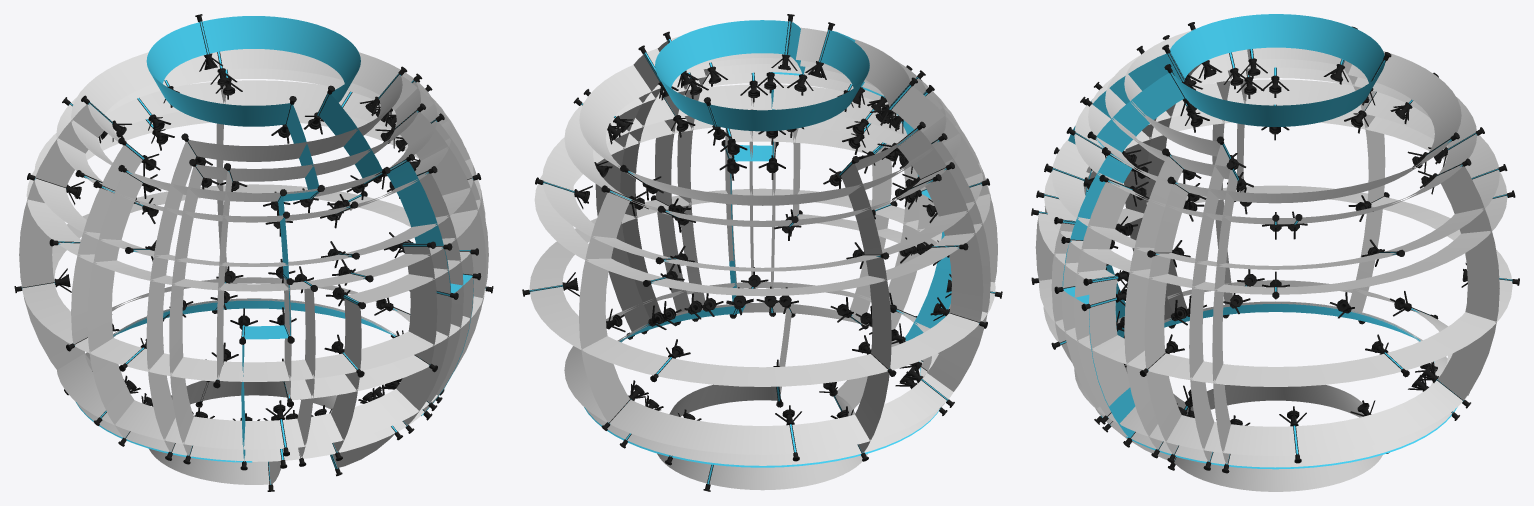
Rendered from Sc01_walls.FBX.
The picture shows the model from 3 angles, left to right: view 1: azimuth 30°, elevation 25°; view 2: azimuth 150°, elevation 25°; view 3: azimuth 270°, elevation 25°; orthographic projection.
Parts seen in each view (by area): view 1: Sc01_walls05, Sc01_walls09, Sc01_walls06, Sc01_walls08, Sc01_walls01, Sc01_walls04, Sc01_walls07, Sc01_walls03, Sc01_walls02; view 2: Sc01_walls05, Sc01_walls04, Sc01_walls08, Sc01_walls01, Sc01_walls06, Sc01_walls09, Sc01_walls07, Sc01_walls03, Sc01_walls02; view 3: Sc01_walls05, Sc01_walls04, Sc01_walls06, Sc01_walls01, Sc01_walls09, Sc01_walls08, Sc01_walls07, Sc01_walls03, Sc01_walls02.
Part boxes in pixels (x1,y1,x2,y2): Sc01_walls05: (19,80,485,381); Sc01_walls09: (149,112,486,484); Sc01_walls06: (76,16,473,462); Sc01_walls08: (19,81,473,461); Sc01_walls01: (71,49,488,454); Sc01_walls04: (56,70,463,449); Sc01_walls07: (146,75,485,457); Sc01_walls03: (26,105,481,291); Sc01_walls02: (56,68,450,222); Sc01_walls05: (529,84,995,386); Sc01_walls04: (564,75,960,454); Sc01_walls08: (595,48,995,452); Sc01_walls01: (579,64,990,465); Sc01_walls06: (584,20,951,467); Sc01_walls09: (657,68,990,490); Sc01_walls07: (620,27,997,370); Sc01_walls03: (534,109,990,296); Sc01_walls02: (564,72,959,226); Sc01_walls05: (1039,79,1512,386); Sc01_walls04: (1074,67,1499,455); Sc01_walls06: (1062,14,1457,469); Sc01_walls01: (1088,49,1461,467); Sc01_walls09: (1043,55,1382,491); Sc01_walls08: (1035,47,1383,464); Sc01_walls07: (1045,30,1229,461); Sc01_walls03: (1044,104,1507,294); Sc01_walls02: (1074,68,1476,224).
Size of the model in its own units: 251 by 230 by 255.
